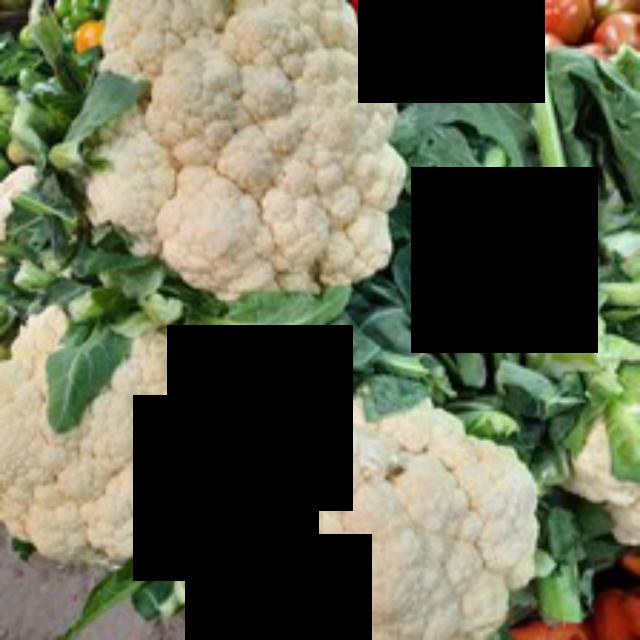cauliflower: (64, 0, 414, 309)
